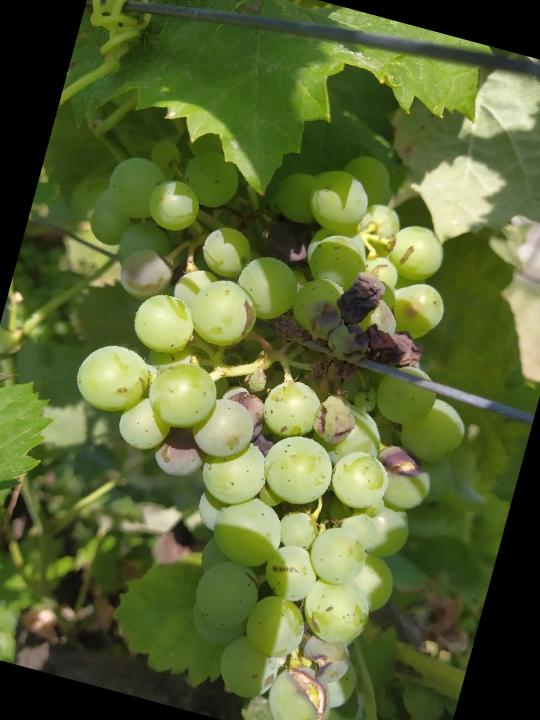grape: (0, 89, 529, 720)
